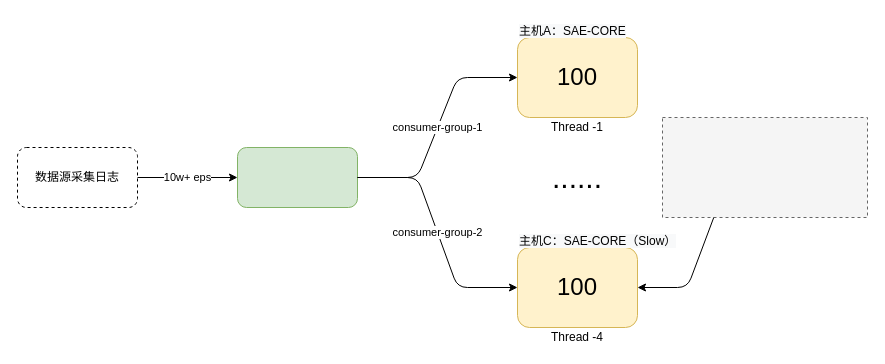
Image size: 885x364. Some labels were removed from this diagram. Here are the shapes that lost their labels. From the top down, the centre of each, then its label:
At (297,177): "Kafka brokers".
At (765,167): "慢规则引擎 将可能性能吞吐的慢规则单独运行 隔离慢规则可能产生的反压，避免影响关键规则运行".
